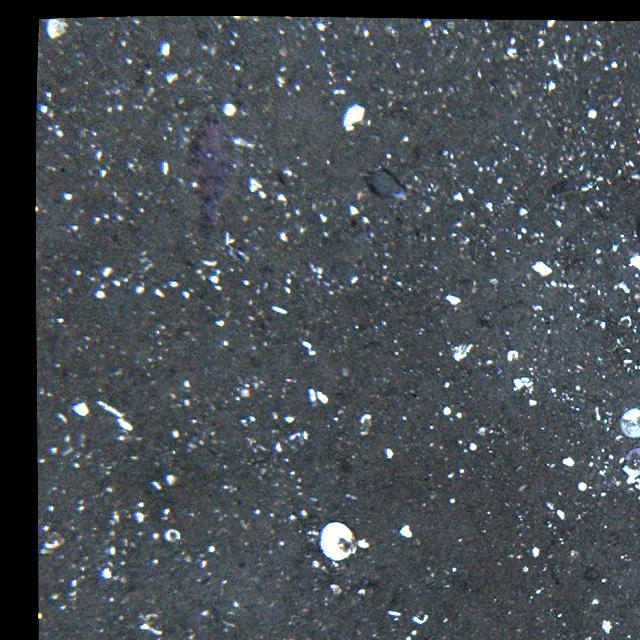flatfish: (182, 105, 242, 236)
